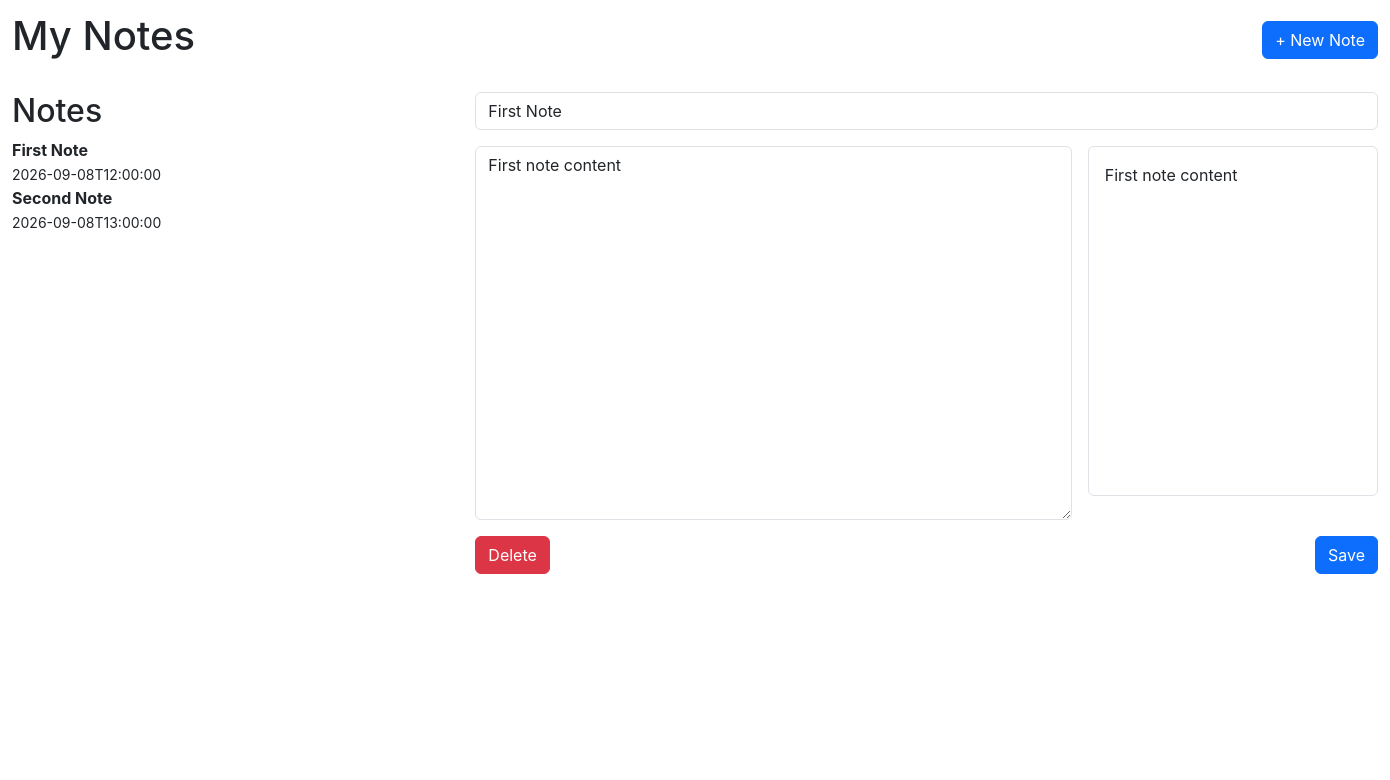
Test case: Notes › creates a new note
Click the button "+ New Note".
click(1320, 40)  # box [1262,21,1378,59]
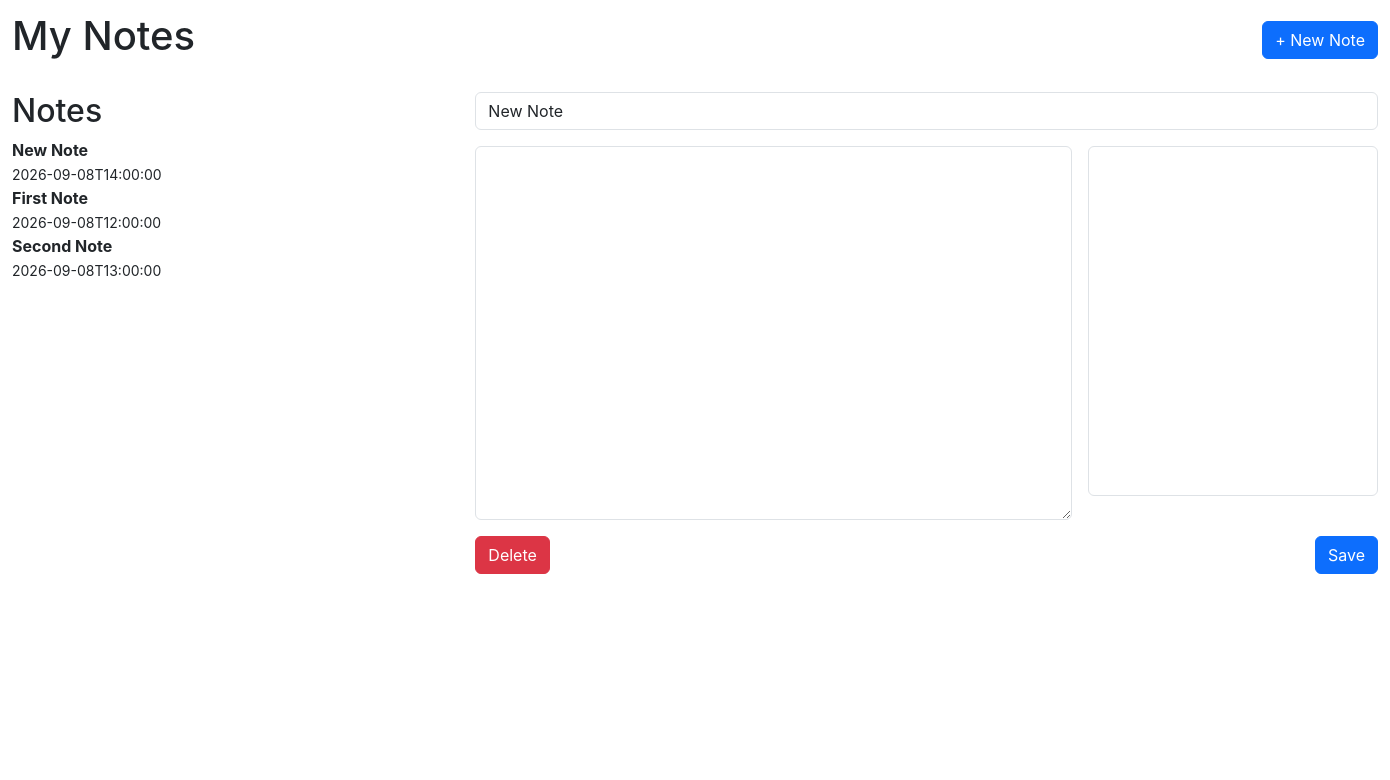
Check: the field showing "New Note" is shown, box [475,92,1378,130]
